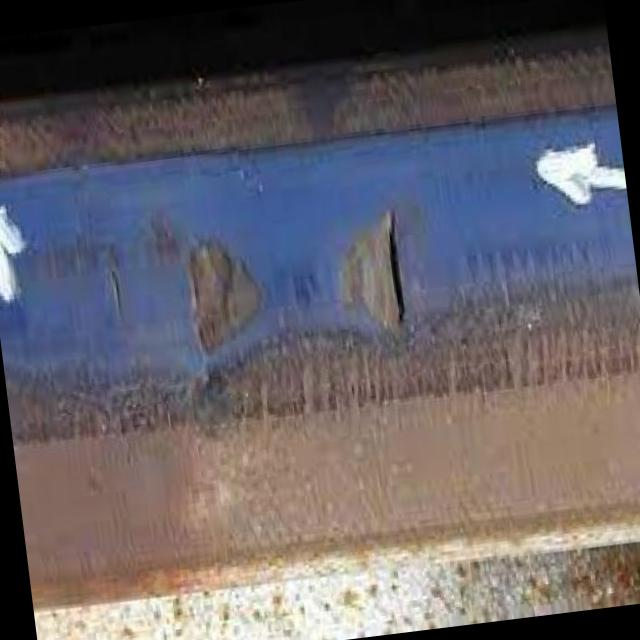defective: (26, 122, 516, 522)
